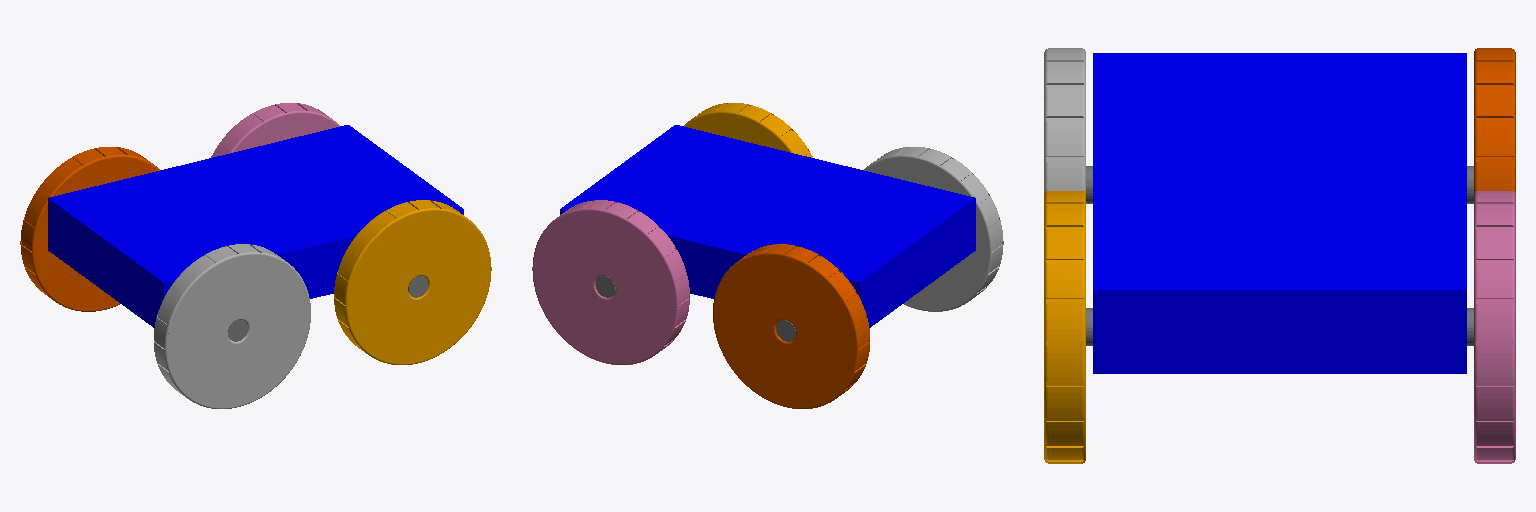
The robot description file, URDF, robot "farad_amr":
<?xml version="1.0"?>
<robot name="farad_amr">

<!-- Base link (chassis) -->
<link name="base_link">
<visual>
<geometry>
<box size="0.6 0.4 0.1"/>
</geometry>
<material name="blue">
<color rgba="0 0 1 1"/>
</material>
</visual>
<collision>
<geometry>
<box size="0.6 0.4 0.1"/>
</geometry>
</collision>
<inertial>
<mass value="10.0"/>
<inertia ixx="0.1" ixy="0.0" ixz="0.0" iyy="0.1" iyz="0.0" izz="0.1"/>
</inertial>
</link>




<!-- Left front shaft -->
<link name="left_front_shaft">
<visual>
<geometry>
<cylinder radius="0.02" length="0.10"/>
</geometry>
<origin xyz="0 0 0" rpy="1.5708 0 0"/>
<material name="gray">
<color rgba="0.5 0.5 0.5 1"/>
</material>
</visual>
<collision>
<geometry>
<cylinder radius="0.02" length="0.10"/>
</geometry>
<origin xyz="0 0 0" rpy="1.5708 0 0"/>
</collision>
<inertial>
<mass value="0.2"/>
<inertia ixx="0.01" ixy="0.0" ixz="0.0" iyy="0.01" iyz="0.0" izz="0.01"/>
</inertial>
</link>

<!-- Left rear shaft -->
<link name="left_rear_shaft">
<visual>
<geometry>
<cylinder radius="0.02" length="0.10"/>
</geometry>
<origin xyz="0 0 0" rpy="1.5708 0 0"/>
<material name="gray">
<color rgba="0.5 0.5 0.5 1"/>
</material>
</visual>
<collision>
<geometry>
<cylinder radius="0.02" length="0.10"/>
</geometry>
<origin xyz="0 0 0" rpy="1.5708 0 0"/>
</collision>
<inertial>
<mass value="0.2"/>
<inertia ixx="0.01" ixy="0.0" ixz="0.0" iyy="0.01" iyz="0.0" izz="0.01"/>
</inertial>
</link>

<!-- Right front shaft -->
<link name="right_front_shaft">
<visual>
<geometry>
<cylinder radius="0.02" length="0.10"/>
</geometry>
<origin xyz="0 0 0" rpy="1.5708 0 0"/>
<material name="gray">
<color rgba="0.5 0.5 0.5 1"/>
</material>
</visual>
<collision>
<geometry>
<cylinder radius="0.02" length="0.10"/>
</geometry>
<origin xyz="0 0 0" rpy="1.5708 0 0"/>
</collision>
<inertial>
<mass value="0.2"/>
<inertia ixx="0.01" ixy="0.0" ixz="0.0" iyy="0.01" iyz="0.0" izz="0.01"/>
</inertial>
</link>

<!-- Right rear shaft -->
<link name="right_rear_shaft">
<visual>
<geometry>
<cylinder radius="0.02" length="0.10"/>
</geometry>
<origin xyz="0 0 0" rpy="1.5708 0 0"/>
<material name="gray">
<color rgba="0.5 0.5 0.5 1"/>
</material>
</visual>
<collision>
<geometry>
<cylinder radius="0.02" length="0.10"/>
</geometry>
<origin xyz="0 0 0" rpy="1.5708 0 0"/>
</collision>
<inertial>
<mass value="0.2"/>
<inertia ixx="0.01" ixy="0.0" ixz="0.0" iyy="0.01" iyz="0.0" izz="0.01"/>
</inertial>
</link>



<!-- ================= TIRES (MESH) ================= -->

<!-- Left front tire (aligned with shaft, at +Y end) -->
<link name="left_front_tire">
	<inertial>
		<origin xyz="0 0 0"/>
		<mass value="1.0"/>
		<inertia ixx="0.02" iyy="0.02" izz="0.02" ixy="0" ixz="0" iyz="0"/>
	</inertial>
	<visual>
		<origin xyz="0 0.03 0" rpy="1.5708 0 0"/>
		<geometry>
			<mesh filename="tire_5.stl" scale="0.001 0.001 0.001"/>
		</geometry>
	</visual>
	<collision>
		<origin xyz="0 0.03 0" rpy="1.5708 0 0"/>
		<geometry>
			<mesh filename="tire_5.stl" scale="0.001 0.001 0.001"/>
		</geometry>
	</collision>
</link>

<!-- Left rear tire (aligned with shaft, at +Y end) -->
<link name="left_rear_tire">
	<inertial>
		<origin xyz="0 0 0"/>
		<mass value="1.0"/>
		<inertia ixx="0.02" iyy="0.02" izz="0.02" ixy="0" ixz="0" iyz="0"/>
	</inertial>
	<visual>
		<origin xyz="0 0.03 0" rpy="1.5708 0 0"/>
		<geometry>
			<mesh filename="tire_5.stl" scale="0.001 0.001 0.001"/>
		</geometry>
	</visual>
	<collision>
		<origin xyz="0 0.03 0" rpy="1.5708 0 0"/>
		<geometry>
			<mesh filename="tire_5.stl" scale="0.001 0.001 0.001"/>
		</geometry>
	</collision>
</link>

<!-- Right front tire (aligned with shaft, at +Y end) -->
<link name="right_front_tire">
	<inertial>
		<origin xyz="0 0 0"/>
		<mass value="1.0"/>
		<inertia ixx="0.02" iyy="0.02" izz="0.02" ixy="0" ixz="0" iyz="0"/>
	</inertial>
	<visual>
		<origin xyz="0 -0.03 0" rpy="1.5708 0 0"/>
		<geometry>
			<mesh filename="tire_5.stl" scale="0.001 0.001 0.001"/>
		</geometry>
	</visual>
	<collision>
		<origin xyz="0 -0.03 0" rpy="1.5708 0 0"/>
		<geometry>
			<mesh filename="tire_5.stl" scale="0.001 0.001 0.001"/>
		</geometry>
	</collision>
</link>

<!-- Right rear tire (aligned with shaft, at +Y end) -->
<link name="right_rear_tire">
	<inertial>
		<origin xyz="0 0 0"/>
		<mass value="1.0"/>
		<inertia ixx="0.02" iyy="0.02" izz="0.02" ixy="0" ixz="0" iyz="0"/>
	</inertial>
	<visual>
		<origin xyz="0 -0.03 0" rpy="1.5708 0 0"/>
		<geometry>
			<mesh filename="tire_5.stl" scale="0.001 0.001 0.001"/>
		</geometry>
	</visual>
	<collision>
		<origin xyz="0 -0.03 0" rpy="1.5708 0 0"/>
		<geometry>
			<mesh filename="tire_5.stl" scale="0.001 0.001 0.001"/>
		</geometry>
	</collision>
</link>



<!-- ================= SHAFTS AND TIRES ASSEMBLY ================= -->

<!-- Left front shaft (front left corner) -->
<joint name="base_link_to_left_front_shaft" type="fixed">
	<parent link="base_link"/>
	<child link="left_front_shaft"/>
	<origin xyz="-0.18 0.2 -0.05" rpy="0 0 0"/>
</joint>

<!-- Attach left front tire to shaft with continuous joint (rotates freely) -->
<joint name="left_front_shaft_to_tire" type="continuous">
	<parent link="left_front_shaft"/>
	<child link="left_front_tire"/>
	<!-- Tire is placed at end of shaft, so no offset needed -->
	<origin xyz="0 0 0" rpy="0 0 0"/>
	<axis xyz="0 1 0"/>
</joint>

<!-- Left rear shaft (rear left corner) -->
<joint name="base_link_to_left_rear_shaft" type="fixed">
	<parent link="base_link"/>
	<child link="left_rear_shaft"/>
	<origin xyz="0.18 0.2 -0.05" rpy="0 0 0"/>
</joint>

<!-- Attach left rear tire to shaft with continuous joint -->
<joint name="left_rear_shaft_to_tire" type="continuous">
	<parent link="left_rear_shaft"/>
	<child link="left_rear_tire"/>
	<origin xyz="0 0 0" rpy="0 0 0"/>
	<axis xyz="0 1 0"/>
</joint>

<!-- Right front shaft (front right corner) -->
<joint name="base_link_to_right_front_shaft" type="fixed">
	<parent link="base_link"/>
	<child link="right_front_shaft"/>
	<origin xyz="-0.18 -0.2 -0.05" rpy="0 0 0"/>
</joint>

<!-- Attach right front tire to shaft with continuous joint -->
<joint name="right_front_shaft_to_tire" type="continuous">
	<parent link="right_front_shaft"/>
	<child link="right_front_tire"/>
	<origin xyz="0 0 0" rpy="0 0 0"/>
	<axis xyz="0 1 0"/>
</joint>

<!-- Right rear shaft (rear right corner) -->
<joint name="base_link_to_right_rear_shaft" type="fixed">
	<parent link="base_link"/>
	<child link="right_rear_shaft"/>
	<origin xyz="0.18 -0.2 -0.05" rpy="0 0 0"/>
</joint>

<!-- Attach right rear tire to shaft with continuous joint -->
<joint name="right_rear_shaft_to_tire" type="continuous">
	<parent link="right_rear_shaft"/>
	<child link="right_rear_tire"/>
	<origin xyz="0 0 0" rpy="0 0 0"/>
	<axis xyz="0 1 0"/>
</joint>

</robot>

--- What the picture shows (computed from the rendered views, not written in the file) ---
Views: 3 orthographic renders of the robot side by side, from view 1: azimuth 30°, elevation 25°; view 2: azimuth 150°, elevation 25°; view 3: azimuth 270°, elevation 25°.
Model farad_amr with 9 links and 8 joints (4 continuous, 4 fixed), rooted at base_link, posed every joint at zero.
Visible links, largest first — view 1: base_link, right_front_tire, right_rear_tire, left_front_tire, left_rear_tire; view 2: base_link, left_front_tire, left_rear_tire, right_front_tire, right_rear_tire; view 3: base_link, left_rear_tire, right_rear_tire, left_front_tire, right_front_tire.
Boxes of the visible links, box(x1,y1,x2,y2) form: base_link: box(48, 125, 463, 327); right_front_tire: box(154, 244, 310, 408); right_rear_tire: box(334, 200, 491, 364); left_front_tire: box(20, 147, 159, 311); left_rear_tire: box(211, 103, 339, 157); base_link: box(560, 125, 975, 327); left_front_tire: box(713, 244, 869, 408); left_rear_tire: box(532, 200, 689, 364); right_front_tire: box(864, 147, 1003, 311); right_rear_tire: box(684, 103, 812, 157); base_link: box(1093, 53, 1466, 373); left_rear_tire: box(1474, 191, 1515, 463); right_rear_tire: box(1044, 191, 1085, 463); left_front_tire: box(1474, 48, 1515, 193); right_front_tire: box(1044, 48, 1085, 193).
Bounding box of the posed robot: 0.6522 × 0.5043 × 0.2922 m (x, y, z).
Meshes: 1 distinct files referenced, 4 mesh visuals loaded (1 binary STL).
